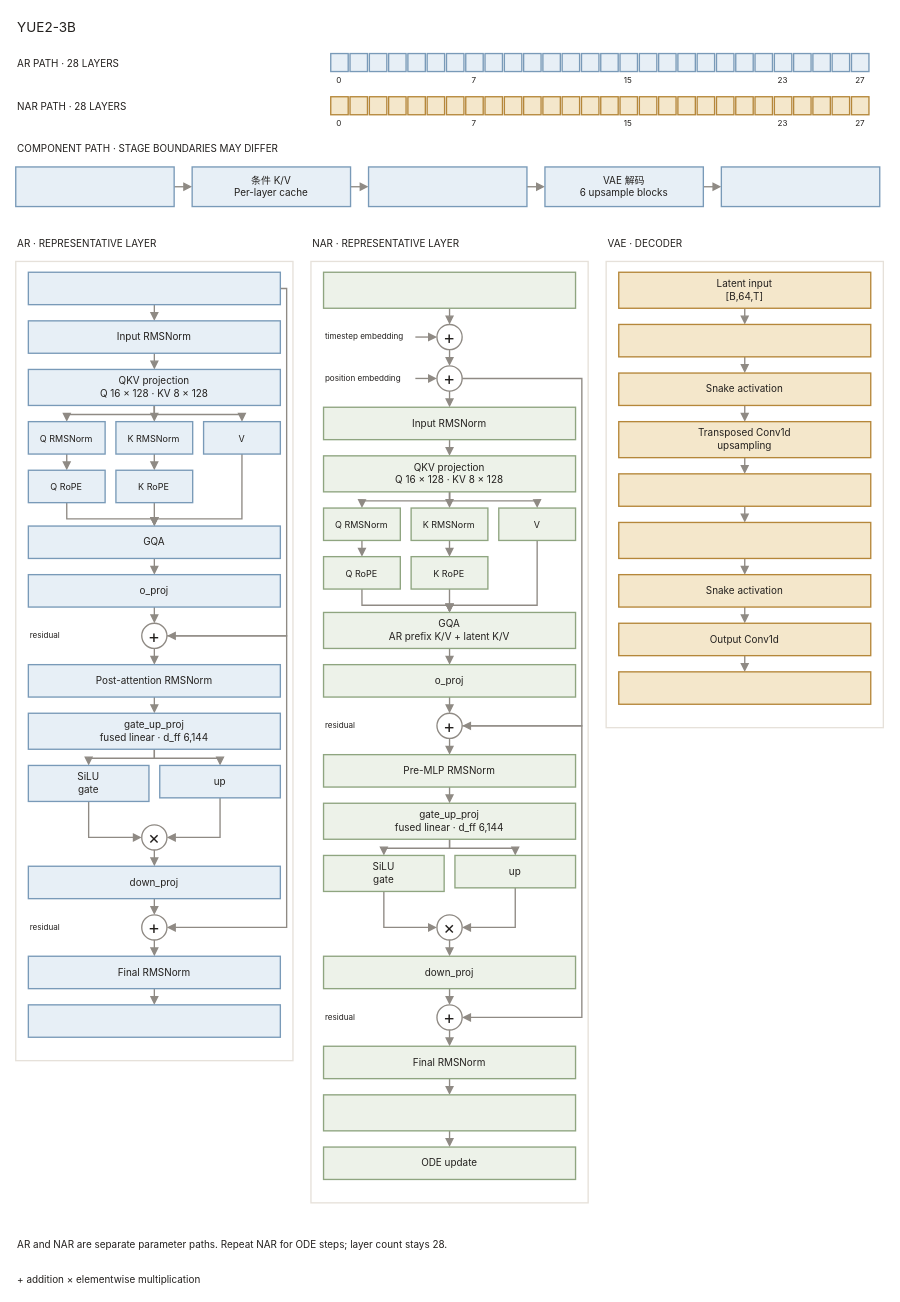
Image size: 900x1302. Some labels were removed from this diagram. The centre of each missing label's shape, as x and y in pixels:
Conv1d: the point at 744,340
llm2vae 2,048 → 64: the point at 449,1112
LM head: the point at 154,1021
Repeat upsampling blocks strides 2,2,4,4,5,6: the point at 744,540
Residual convolution block: the point at 744,490
Stereo waveform: the point at 744,688
Token embedding: the point at 154,288
vae2llm 64 → 2,048: the point at 449,290
波形输出 48 kHz stereo: the point at 800,186
生成计划 AR · 28 layers: the point at 94,186
连续生成 NAR · 28 layers: the point at 447,186
